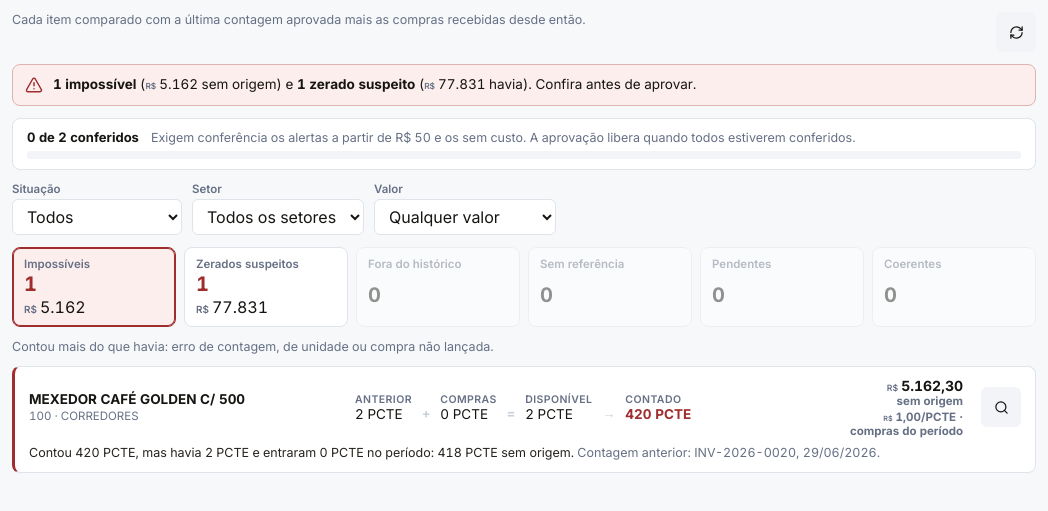
Test: ConferenciaInventario › recorte por setor muda os totais das classes
Select "CAMARA FRIA" in the dropdown labelled "Setor" at x=278, y=217, box [192,199,364,235]
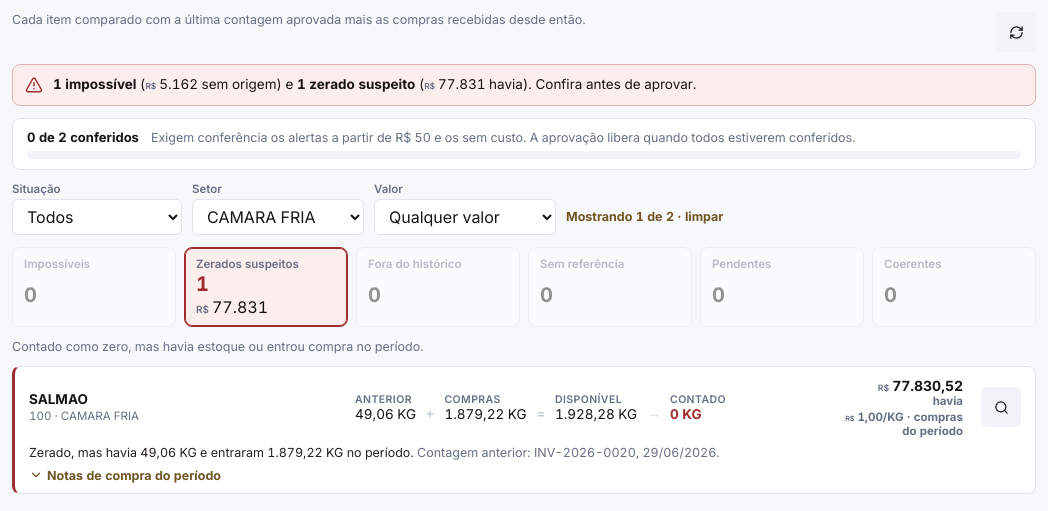
Result: the button "Impossíveis 0" is disabled at [12,247,176,327]
Result: the button "Mostrando 1 de 2 · limpar" is shown at [566,199,723,235]
